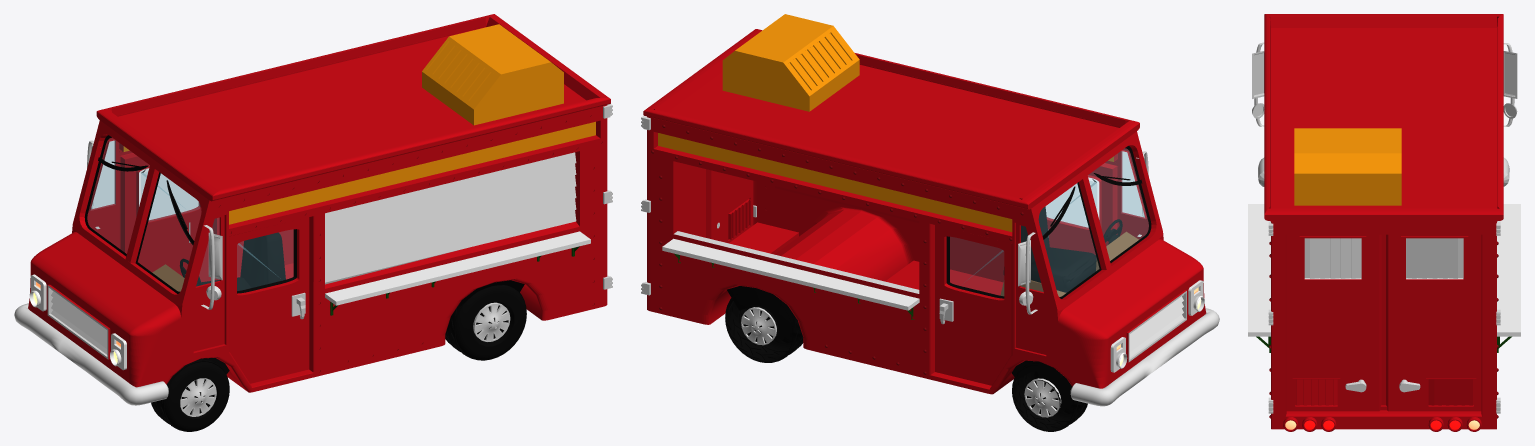
File: FOOD TRUCK.glb
The picture shows the model from 3 angles, left to right: view 1: azimuth 30°, elevation 25°; view 2: azimuth 150°, elevation 25°; view 3: azimuth 270°, elevation 25°; orthographic projection. The views are drawn at different scales.
Parts seen in each view (by area): view 1: TRUCK, VENT, TIRES, SERVING COUNTER, BUMPER, HUBCAPS, CARSEAT, MIRRORS, HEADLIGHTS, WIPERS, STEERING WHEEL; view 2: TRUCK, VENT, TIRES, SERVING COUNTER, BUMPER, HUBCAPS, CARSEAT, MIRRORS, HEADLIGHTS, STEERING WHEEL, rivets, WIPERS; view 3: TRUCK, VENT, SERVING COUNTER, MIRRORS, BRAKELIGHTS, HINGES, HANDLES, BUMPER.
Boxes of the visible parts, box(x1,y1,x2,y2) form: TRUCK: box(28, 14, 610, 392); VENT: box(422, 24, 563, 125); TIRES: box(151, 285, 526, 431); SERVING COUNTER: box(325, 231, 590, 305); BUMPER: box(14, 303, 168, 405); HUBCAPS: box(180, 302, 510, 416); CARSEAT: box(196, 232, 285, 290); MIRRORS: box(87, 140, 222, 309); HEADLIGHTS: box(29, 274, 126, 370); WIPERS: box(98, 157, 194, 245); STEERING WHEEL: box(152, 258, 201, 291); TRUCK: box(643, 29, 1206, 394); VENT: box(722, 14, 859, 111); TIRES: box(725, 293, 1087, 431); SERVING COUNTER: box(662, 238, 919, 310); BUMPER: box(1070, 308, 1219, 406); HUBCAPS: box(741, 307, 1061, 417); CARSEAT: box(1003, 206, 1096, 292); MIRRORS: box(1018, 151, 1148, 314); HEADLIGHTS: box(1110, 280, 1204, 372); STEERING WHEEL: box(1096, 219, 1138, 270); rivets: box(651, 125, 1117, 374); WIPERS: box(1042, 173, 1142, 239); TRUCK: box(1264, 14, 1503, 429); VENT: box(1294, 128, 1401, 205); SERVING COUNTER: box(1248, 204, 1520, 336); MIRRORS: box(1252, 42, 1517, 126); BRAKELIGHTS: box(1283, 417, 1481, 431); HINGES: box(1268, 221, 1500, 413); HANDLES: box(1345, 379, 1420, 392); BUMPER: box(1258, 157, 1509, 186).
Bounding box in the file's own units: 3.05 × 1.65 × 1.43.
